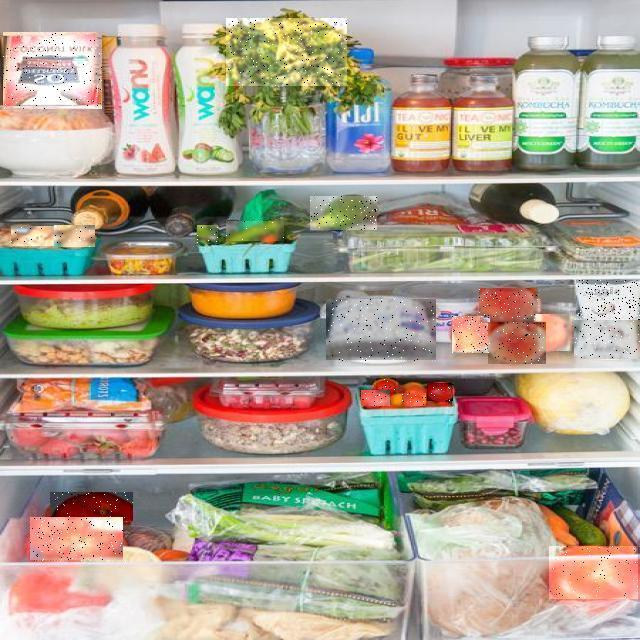milk: (0, 54, 54, 164)
